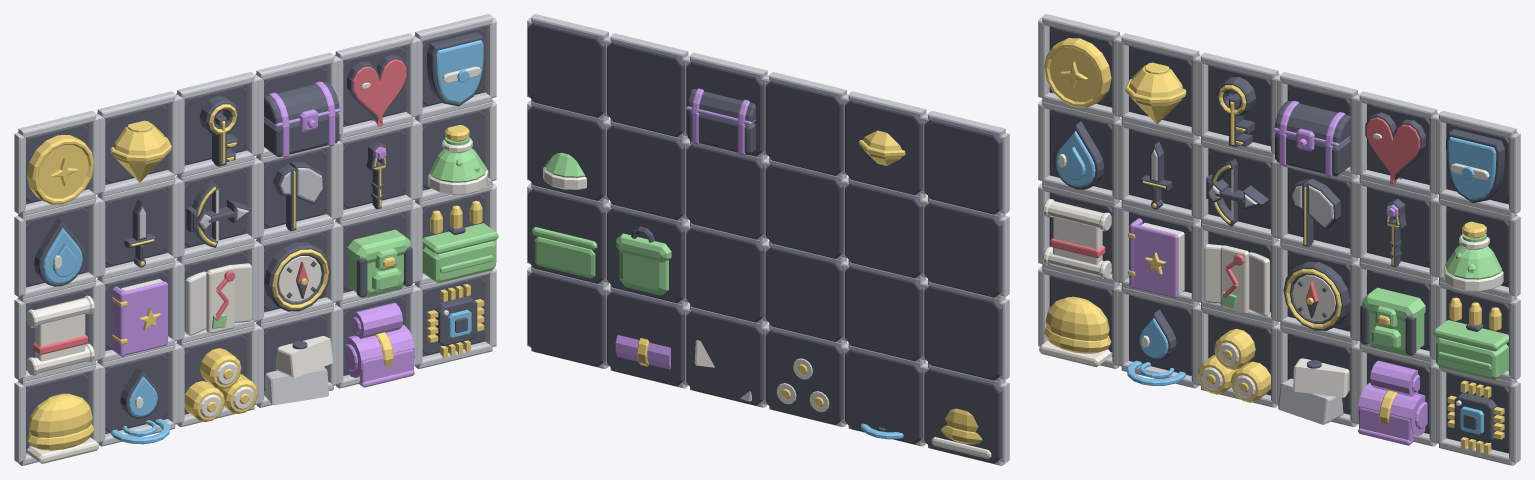
The model's file is game-ui-icon-library-inventory-panel-4d9d7a53__19072.glb.
The picture shows the model from 3 angles, left to right: view 1: azimuth 30°, elevation 25°; view 2: azimuth 150°, elevation 25°; view 3: azimuth 330°, elevation 25°; orthographic projection.
Parts seen in each view (by area): view 1: 020-inventory-slot-frame/1, 014-inventory-slot-frame/1, 000-inventory-slot-frame/2, 037-food-loaf/0, 010-inventory-slot-frame/2, 002-inventory-slot-frame/2, 012-inventory-slot-frame/2, 008-inventory-slot-frame/2, 004-inventory-slot-frame/2, 038-inventory-slot-frame/1, 041-wood-log/0, 014-inventory-slot-frame/2 (+87 smaller); view 2: 012-inventory-slot-frame/0, 046-inventory-slot-frame/0, 000-inventory-slot-frame/0, 010-inventory-slot-frame/0, 024-inventory-slot-frame/0, 028-inventory-slot-frame/0, 030-inventory-slot-frame/0, 004-inventory-slot-frame/0, 016-inventory-slot-frame/0, 018-inventory-slot-frame/0, 026-inventory-slot-frame/0, 014-inventory-slot-frame/0 (+42 smaller); view 3: 010-inventory-slot-frame/2, 020-inventory-slot-frame/1, 014-inventory-slot-frame/1, 037-food-loaf/0, 008-inventory-slot-frame/2, 002-inventory-slot-frame/2, 046-inventory-slot-frame/2, 004-inventory-slot-frame/2, 038-inventory-slot-frame/1, 000-inventory-slot-frame/2, 027-book/0, 041-wood-log/0 (+88 smaller).
Part boxes in pixels (x1,y1,x2,y2): 020-inventory-slot-frame/1: [343, 130, 405, 208]; 014-inventory-slot-frame/1: [105, 188, 167, 266]; 000-inventory-slot-frame/2: [14, 111, 99, 216]; 037-food-loaf/0: [27, 393, 94, 450]; 010-inventory-slot-frame/2: [413, 14, 496, 119]; 002-inventory-slot-frame/2: [97, 91, 178, 197]; 012-inventory-slot-frame/2: [14, 197, 99, 299]; 008-inventory-slot-frame/2: [334, 33, 416, 139]; 004-inventory-slot-frame/2: [175, 72, 258, 177]; 038-inventory-slot-frame/1: [105, 354, 167, 432]; 041-wood-log/0: [184, 348, 257, 421]; 014-inventory-slot-frame/2: [96, 179, 178, 280]; 012-inventory-slot-frame/0: [924, 201, 1002, 297]; 046-inventory-slot-frame/0: [527, 270, 605, 366]; 000-inventory-slot-frame/0: [924, 118, 1002, 214]; 010-inventory-slot-frame/0: [527, 21, 605, 117]; 024-inventory-slot-frame/0: [924, 284, 1002, 380]; 028-inventory-slot-frame/0: [765, 245, 843, 341]; 030-inventory-slot-frame/0: [686, 226, 764, 322]; 004-inventory-slot-frame/0: [765, 79, 843, 175]; 016-inventory-slot-frame/0: [765, 162, 843, 258]; 018-inventory-slot-frame/0: [686, 143, 764, 239]; 026-inventory-slot-frame/0: [845, 265, 922, 361]; 014-inventory-slot-frame/0: [845, 182, 922, 278]; 010-inventory-slot-frame/2: [1435, 111, 1520, 216]; 020-inventory-slot-frame/1: [1367, 188, 1429, 266]; 014-inventory-slot-frame/1: [1129, 130, 1191, 208]; 037-food-loaf/0: [1044, 296, 1111, 353]; 008-inventory-slot-frame/2: [1356, 91, 1438, 197]; 002-inventory-slot-frame/2: [1118, 33, 1200, 139]; 046-inventory-slot-frame/2: [1435, 366, 1520, 465]; 004-inventory-slot-frame/2: [1197, 52, 1280, 158]; 038-inventory-slot-frame/1: [1129, 296, 1191, 374]; 000-inventory-slot-frame/2: [1038, 14, 1121, 119]; 027-book/0: [1133, 224, 1184, 298]; 041-wood-log/0: [1197, 328, 1270, 402].
Bounding box in the file's own units: 7.24 × 4.84 × 0.8.
